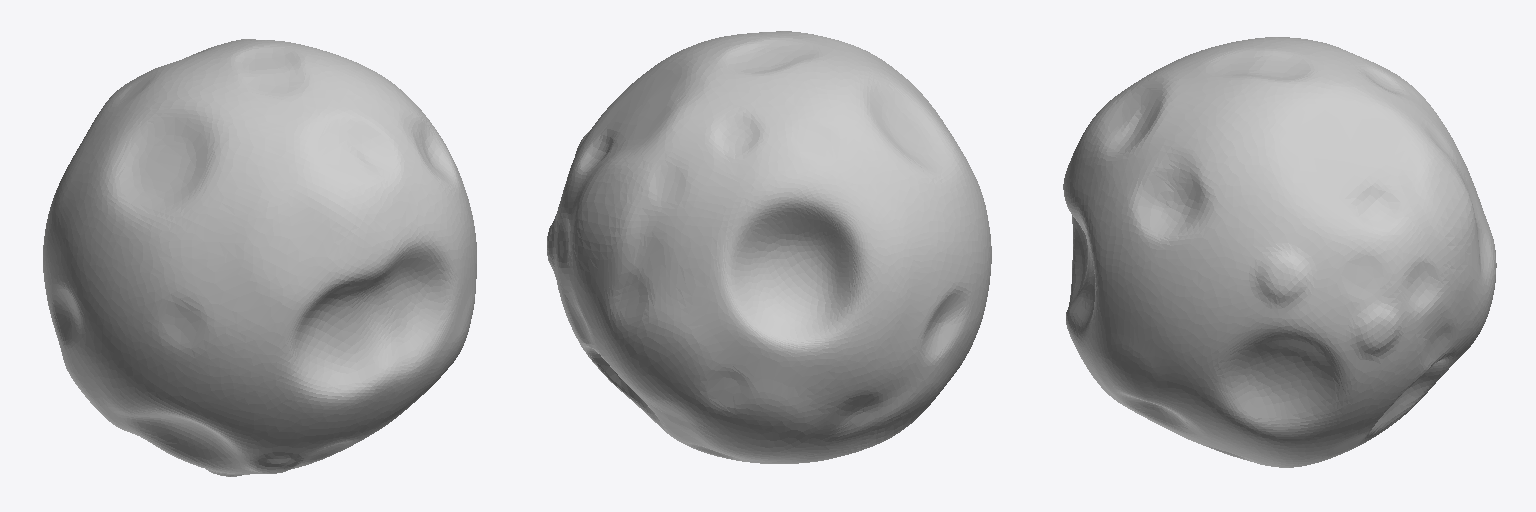
File: planete1test.obj
The picture shows the model from 3 angles: view 1: azimuth 30°, elevation 25°; view 2: azimuth 150°, elevation 25°; view 3: azimuth 270°, elevation 25°; orthographic projection.
Visible parts, largest first — view 1: Sphere_Sphere.003; view 2: Sphere_Sphere.003; view 3: Sphere_Sphere.003.
Part boxes in pixels (bbox=[...]): Sphere_Sphere.003: bbox=[43, 39, 476, 476]; Sphere_Sphere.003: bbox=[547, 31, 991, 463]; Sphere_Sphere.003: bbox=[1063, 37, 1496, 467].
Bounding box in the file's own units: 1 × 0.993 × 1.